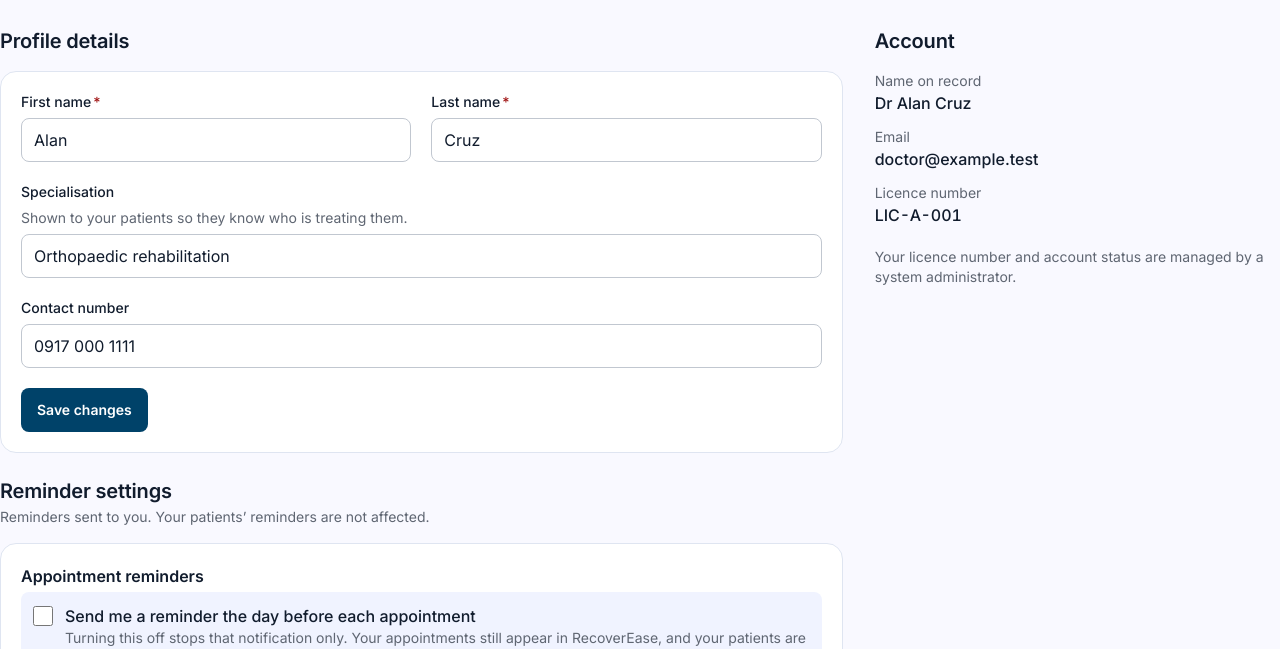
Test: the doctor’s appointment reminder setting › saves it turned back on
Step 1. Click the checkbox labelled "Send me a reminder the day before each appointment" → x=43, y=616, box [33,606,53,626]
(page scrolled)
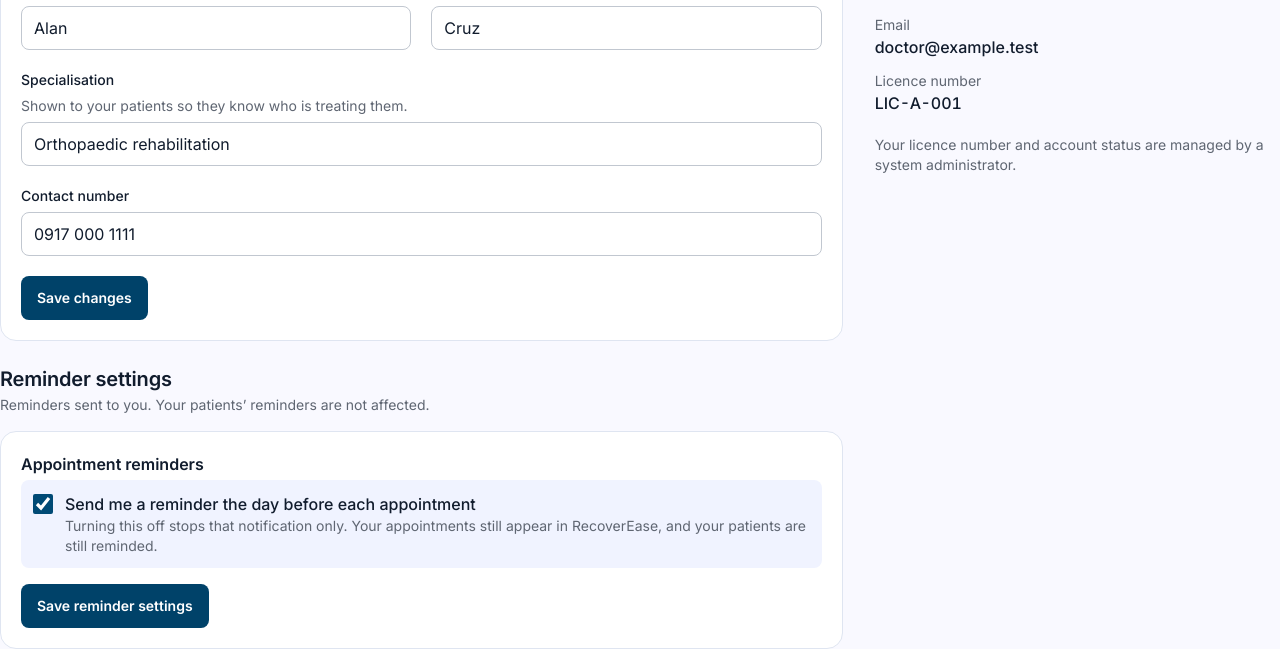
Step 2. Click the button "Save reminder settings" → x=115, y=606, box [21,584,209,628]
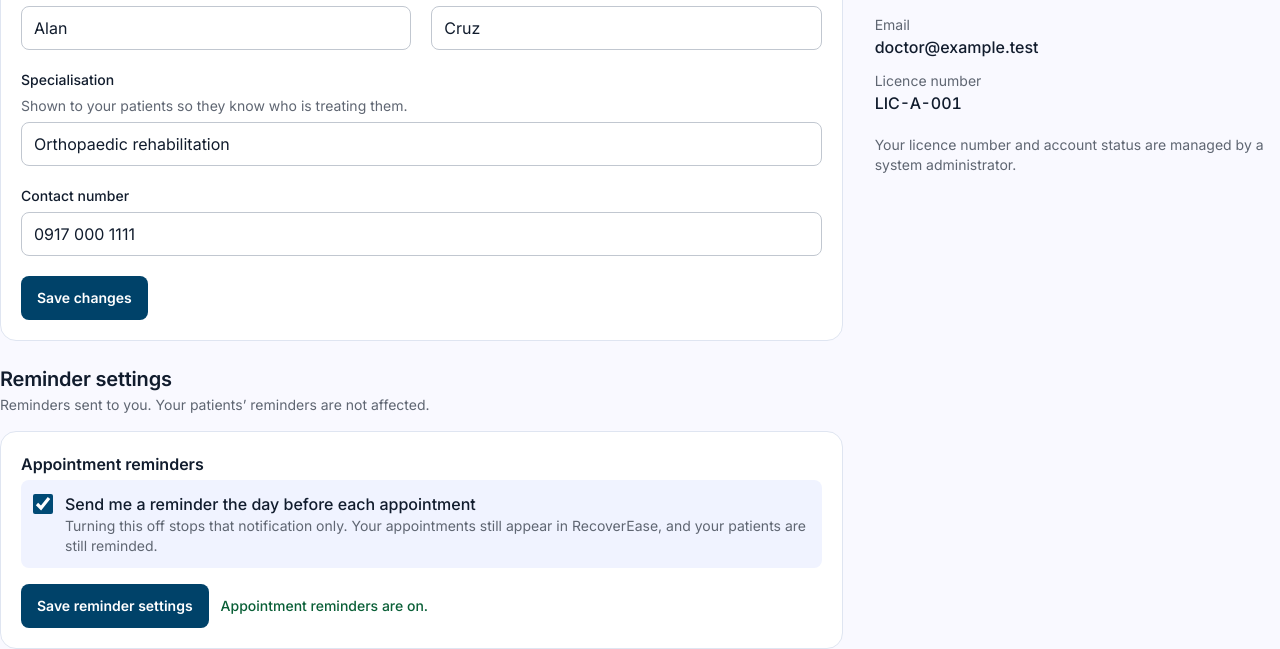
Expected: the message reads "Appointment reminders are on.", [221,597,428,614]
